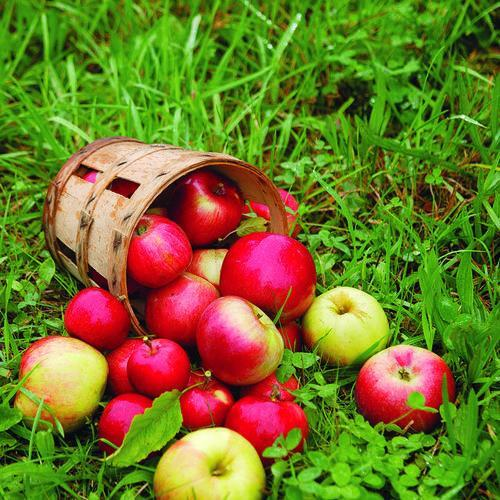apple: (10, 334, 107, 434), (353, 343, 454, 435), (152, 424, 270, 499), (195, 296, 286, 386), (221, 230, 315, 316), (300, 286, 392, 368), (227, 394, 308, 461), (146, 271, 219, 343), (125, 213, 192, 289), (177, 172, 245, 243), (61, 285, 130, 349), (125, 335, 189, 395), (99, 391, 150, 447), (176, 375, 230, 426)
